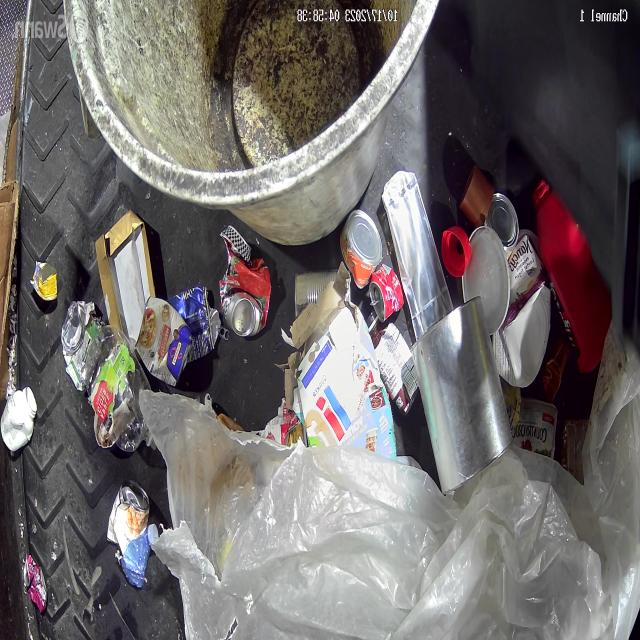can: (218, 223, 272, 339), (134, 293, 193, 390), (61, 297, 104, 395), (339, 208, 384, 290), (106, 478, 151, 557), (294, 266, 351, 320), (368, 264, 404, 324), (23, 551, 48, 613)
non_white_jug: (532, 180, 611, 377)
